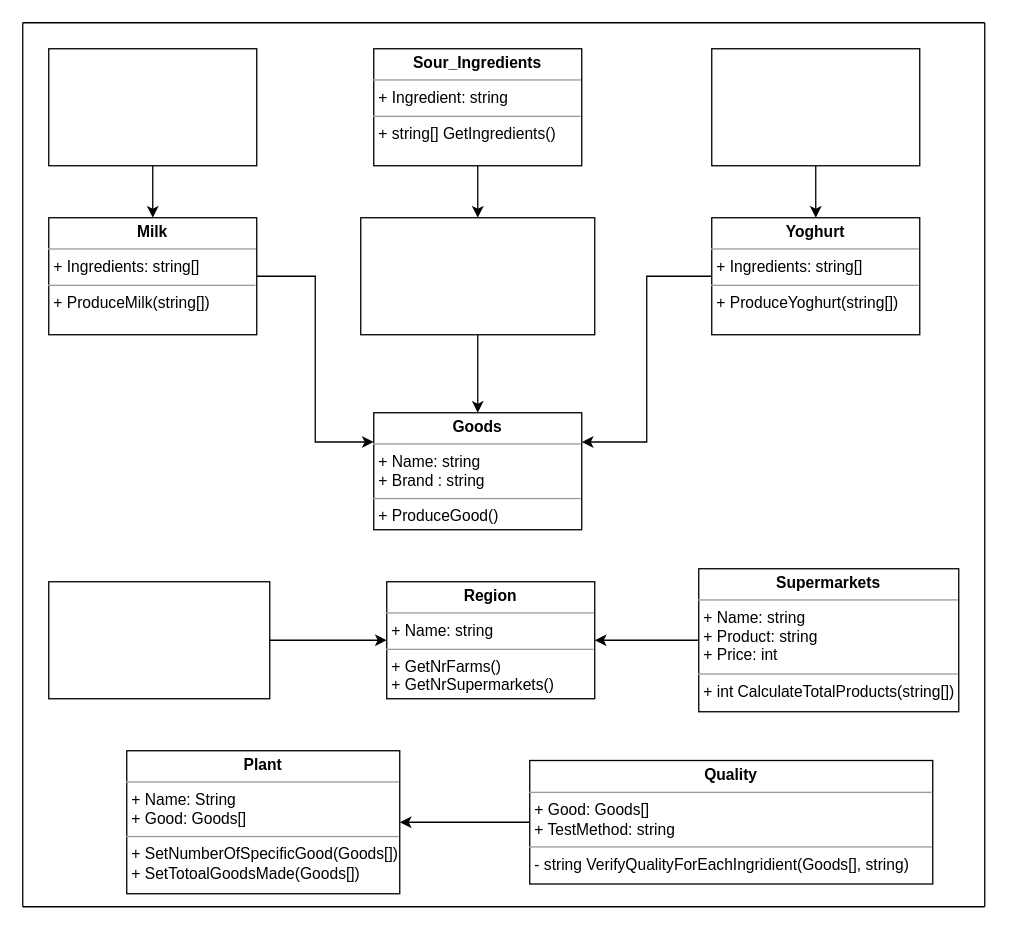
This 1009x931 diagram has some shape labels left out. Here are the shapes that lost their labels. From the top down, the centre of each, then its label:
At (152,106): "Milk_Ingredients + Ingredient: string + string[] GetIngredients()".
At (815,106): "Yoghurt_Ingredients + Ingredient: string + string[] GetIngredients()".
At (477,275): "Sour-Cream + Ingredients: string[] + ProduceSour-Cream(string[] )".
At (158,639): "Farms + Name: string + NumberCows: int + int CalculateMilkPerCow(int)".
